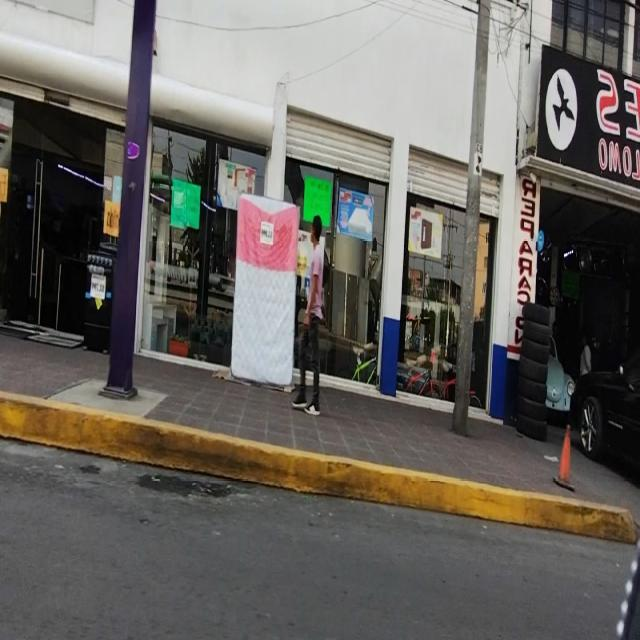adult: (294, 213, 324, 413)
